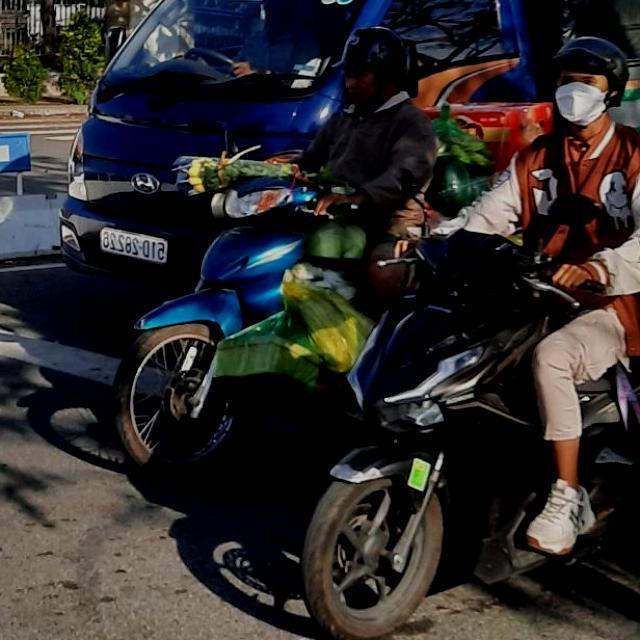Helmet: (545, 33, 629, 131), (332, 23, 406, 108)
